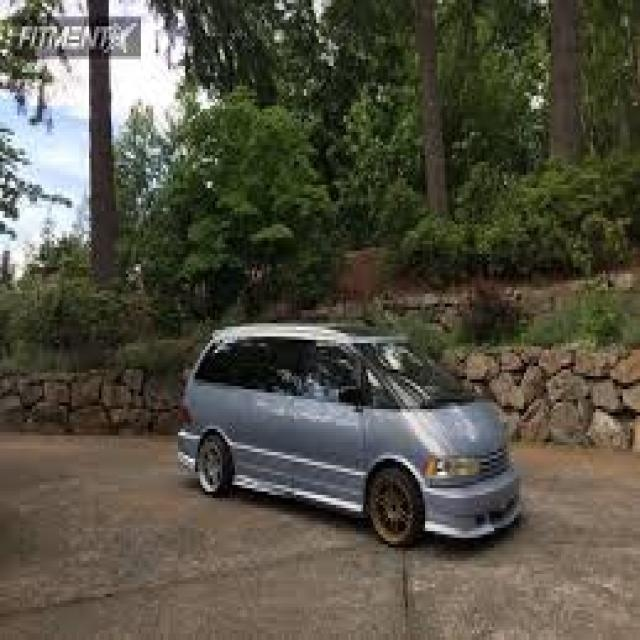Van: (175, 320, 524, 548)
